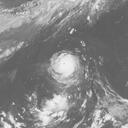cyclone: (49, 50, 83, 86)
